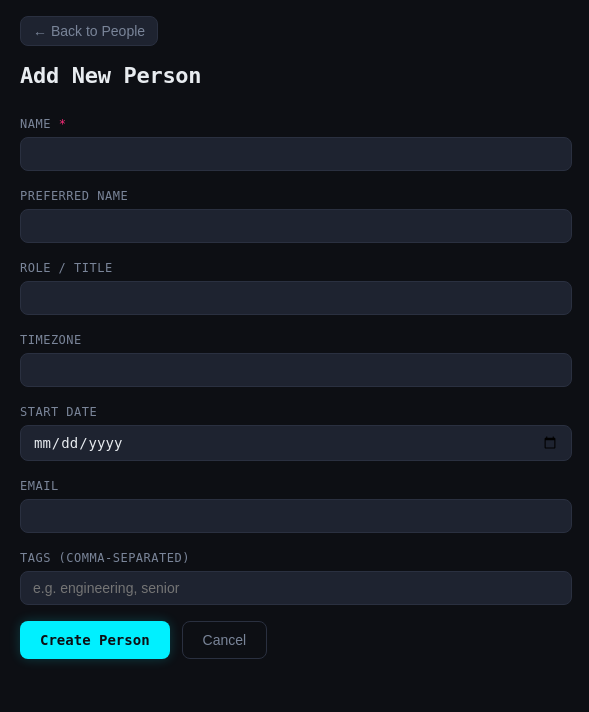
CreatePersonPage › should display error message when creation fails
In the field labelled "Name *": {"x": 296, "y": 154} left=20, top=137, right=572, bottom=171, type "John Doe"
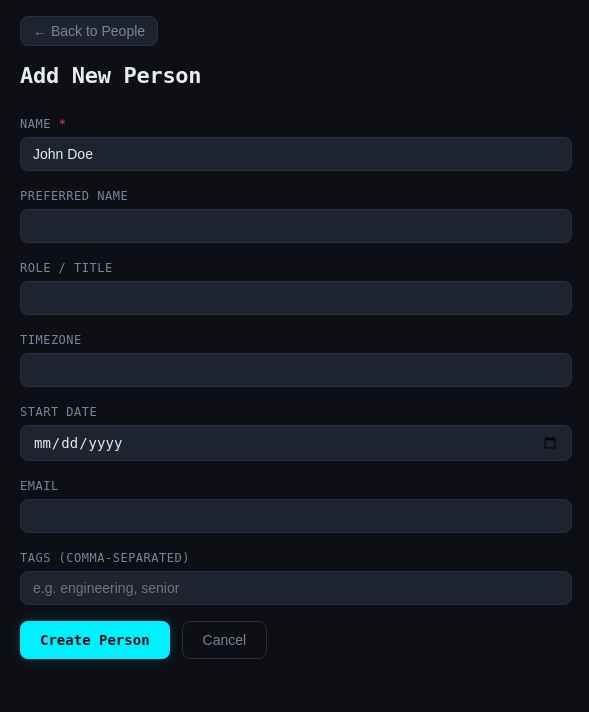
Click the button "Create Person": {"x": 95, "y": 640} left=20, top=621, right=170, bottom=659
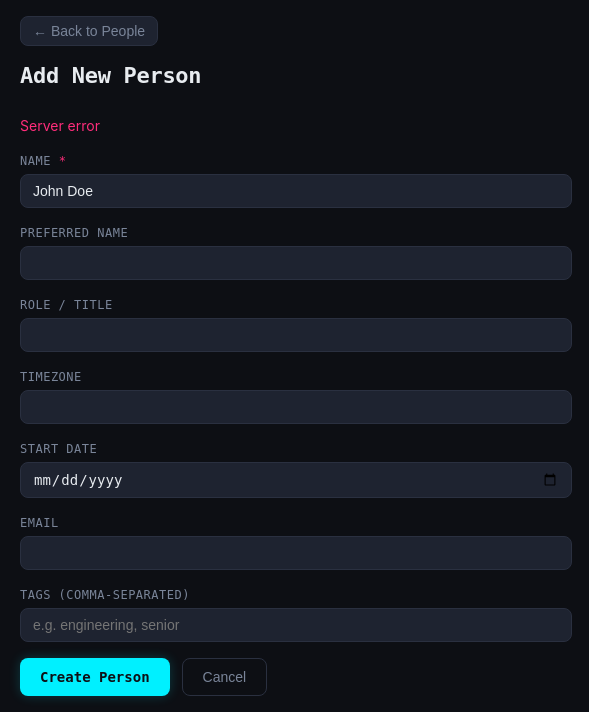
Now the text "Server error" is shown, box left=20, top=117, right=100, bottom=134
